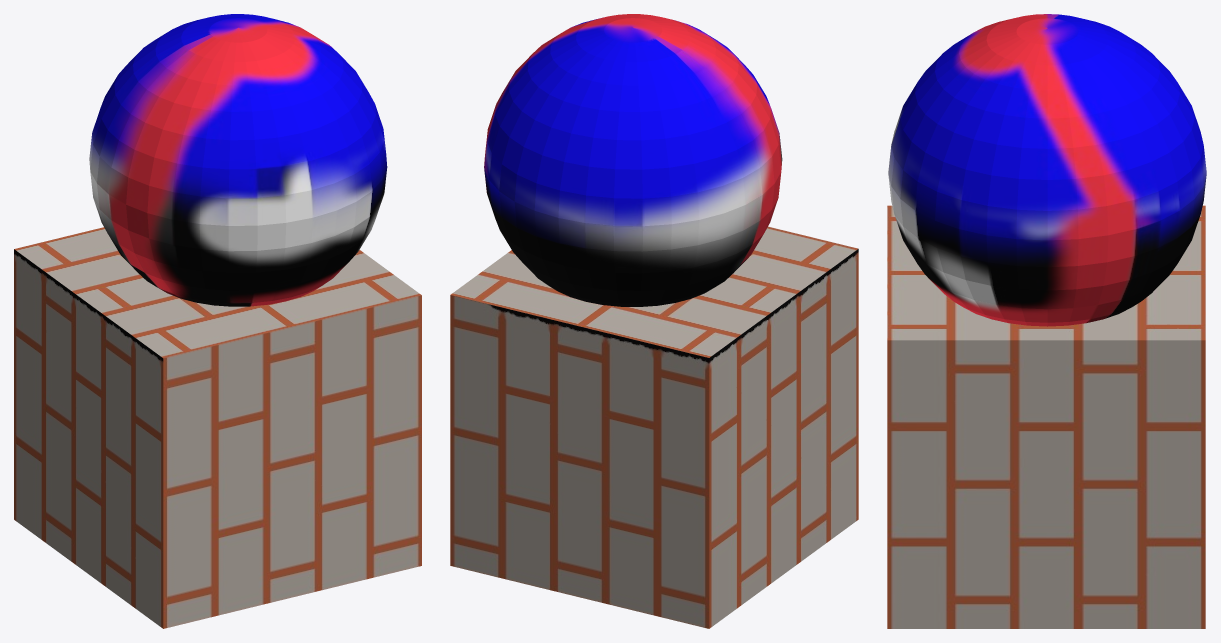
3 renders of one model, left to right at view 1: azimuth 30°, elevation 25°; view 2: azimuth 150°, elevation 25°; view 3: azimuth 270°, elevation 25°, orthographic. The views are drawn at different scales.
Parts seen in each view (by area): view 1: Cube, 球体; view 2: Cube, 球体; view 3: Cube, 球体.
Part boxes in pixels (x1,y1,x2,y2): Cube: (14,227,421,628); 球体: (89,14,387,306); Cube: (450,226,858,628); 球体: (484,14,782,306); Cube: (887,205,1205,628); 球体: (888,14,1206,326).
Size of the model in its own units: 2.16 by 3.77 by 2.01.
Materials: 1 (1 with a texture image).
